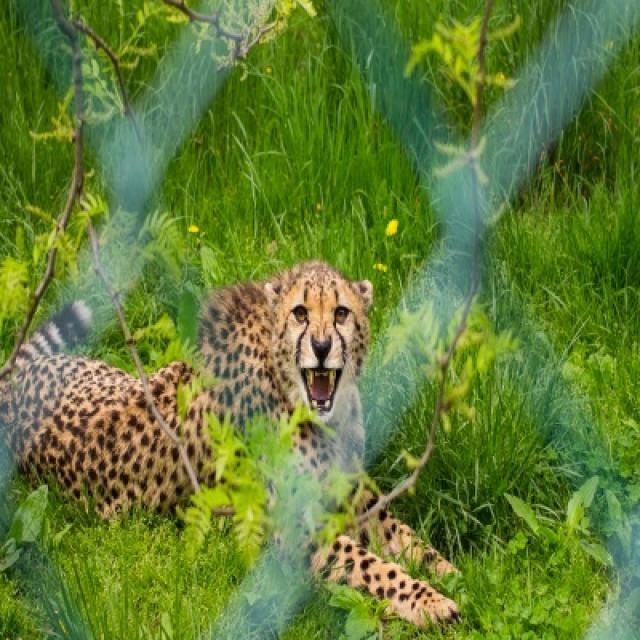Cheetah: (0, 261, 459, 638)
